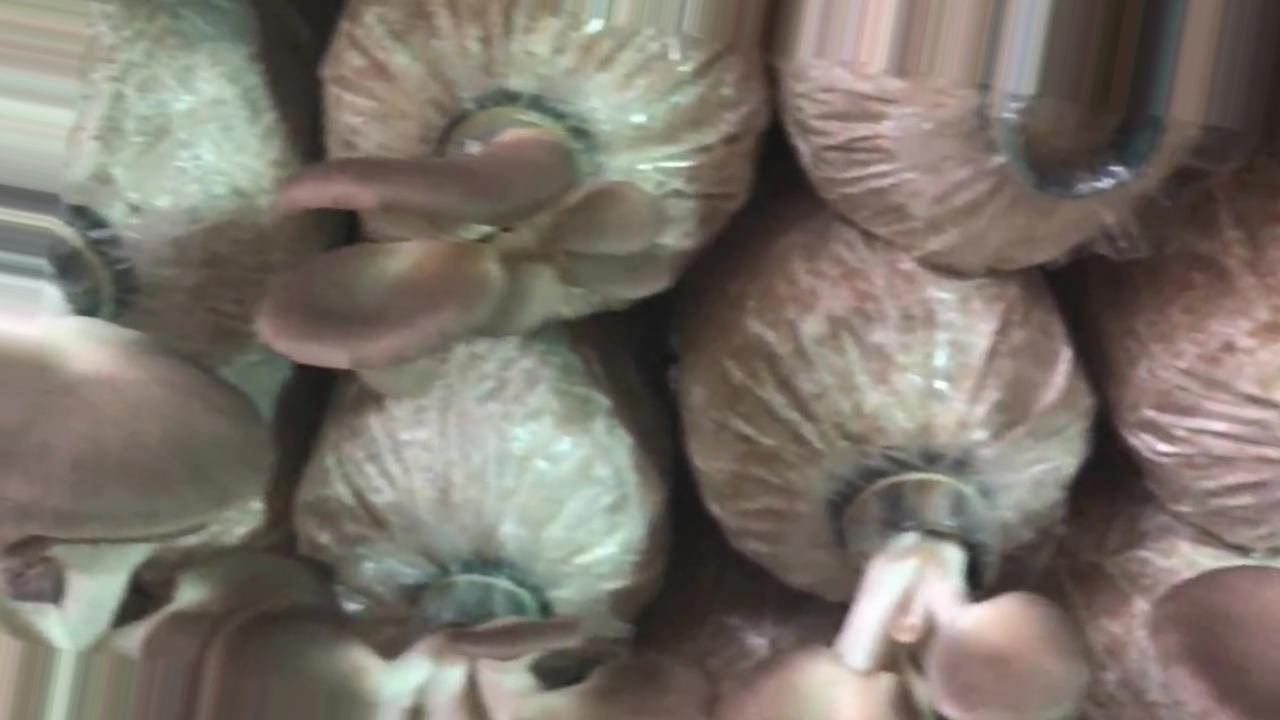nam: (260, 96, 673, 370), (1, 202, 273, 545), (718, 475, 1081, 720), (197, 563, 707, 720), (1155, 553, 1280, 718)
